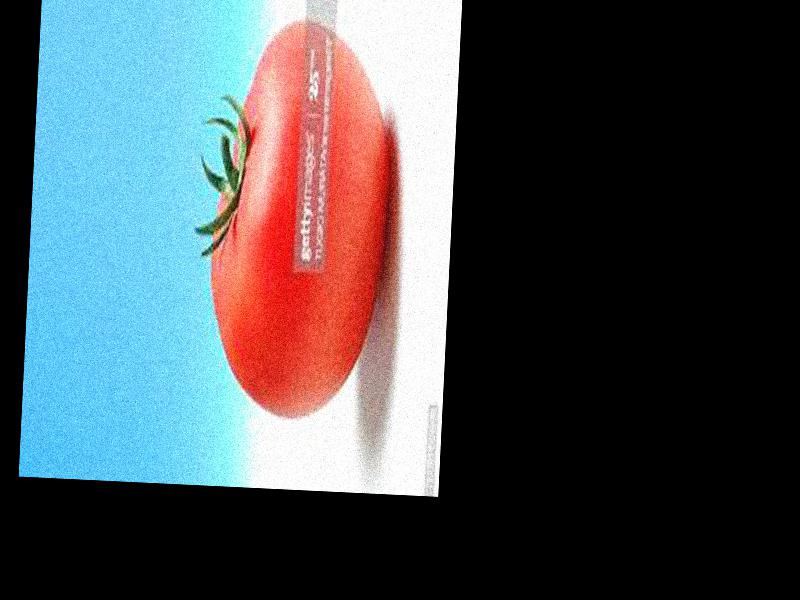Tomato: (205, 14, 394, 419)
